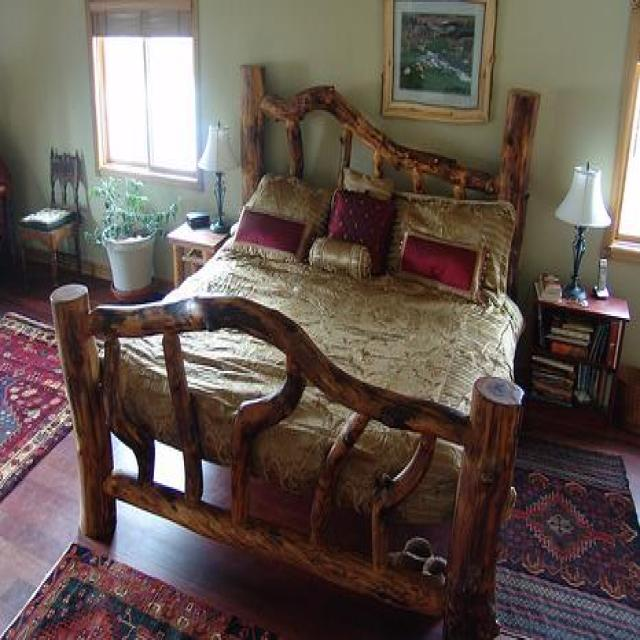bed: (49, 61, 540, 638)
